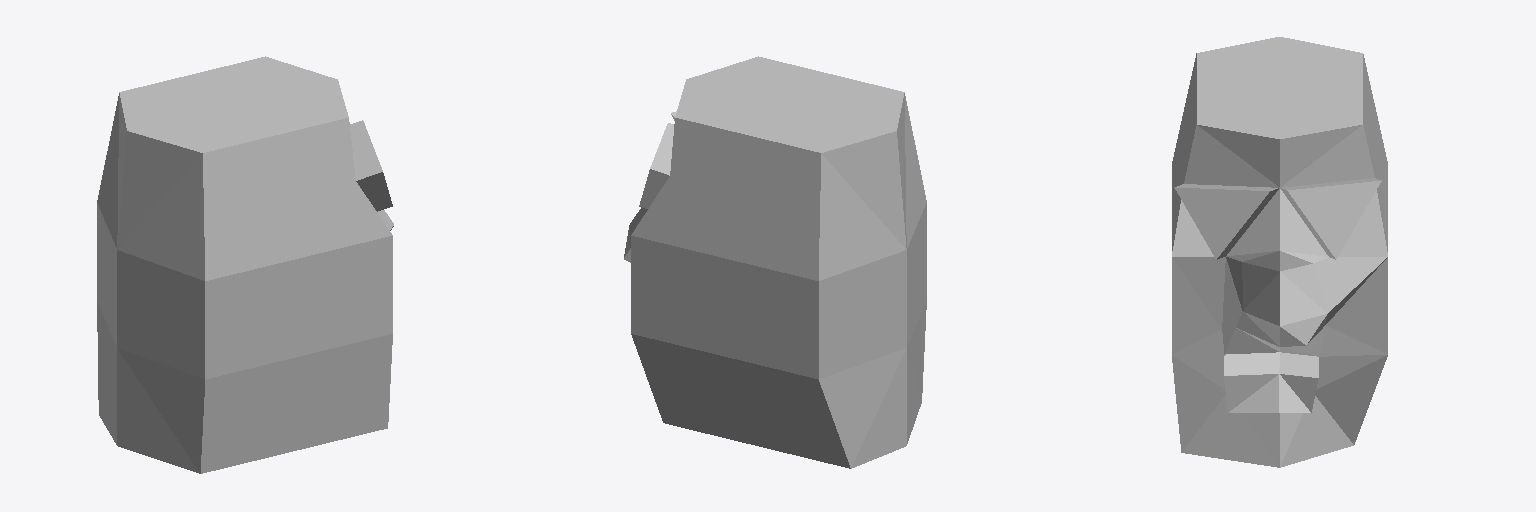
Rendered from moai.obj.
The picture shows the model from 3 angles: view 1: azimuth 30°, elevation 25°; view 2: azimuth 150°, elevation 25°; view 3: azimuth 270°, elevation 25°; orthographic projection.
Parts seen in each view (by area): view 1: 立方体; view 2: 立方体; view 3: 立方体.
Boxes of the visible parts, x1=… form: 立方体: x1=97, y1=56, x2=393, y2=473; 立方体: x1=624, y1=56, x2=926, y2=468; 立方体: x1=1172, y1=37, x2=1387, y2=467.
Size of the model in its own units: 2.96 by 3.19 by 2.